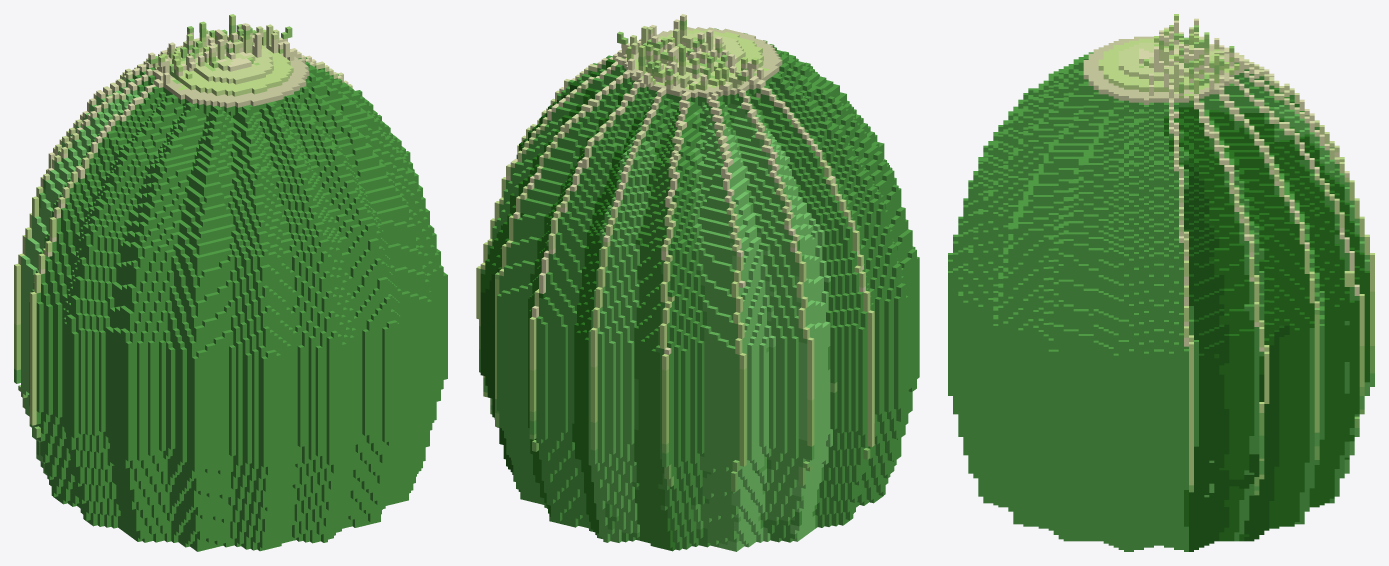
Rendered from spring.FBX.
3 renders of one model, left to right at view 1: azimuth 30°, elevation 25°; view 2: azimuth 150°, elevation 25°; view 3: azimuth 270°, elevation 25°, orthographic. The views are drawn at different scales.
Visible parts, largest first — view 1: default051; view 2: default051; view 3: default051.
Boxes of the visible parts, box(x1,y1,x2,y2) form: default051: box(14, 14, 447, 551); default051: box(476, 14, 919, 551); default051: box(948, 14, 1374, 551).
Bounding box in the file's own units: 1486 × 1713 × 1486.
